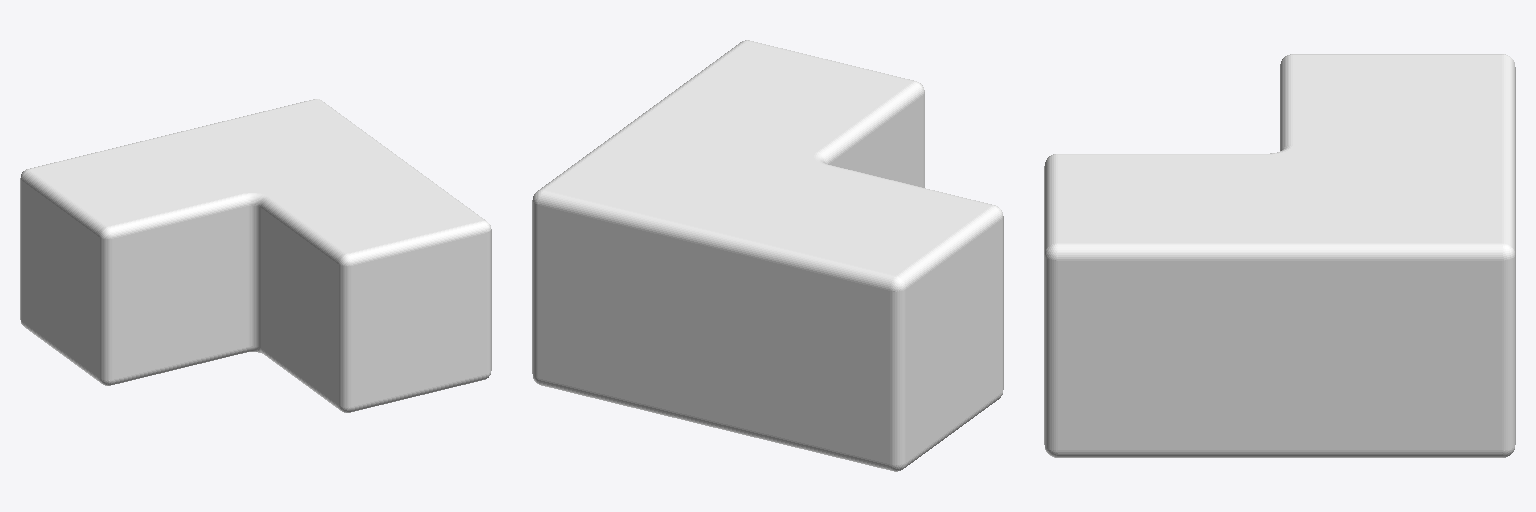
The robot description file, URDF, robot "cube3":
<robot name="cube3">
	<link name="baseLink">
    	<contact>
      		<lateral_friction value="0.5" />
      		<rolling_friction value="0.0" />
      		<contact_cfm value="0.0" />
      		<contact_erp value="1.0" />
    	</contact>
		<visual>
			<origin rpy="0.0 0.0 0.0" xyz="0.5399500533565089 -4.994846842335778e-05 -0.09000000002560846" />
			<geometry>
				<mesh filename="cubes/cube3.obj" scale="0.01 0.01 0.01" />
			</geometry>
			<material name="texture">
				<color rgba="1.0 1.0 1.0 1.0" />
			</material>
		</visual>
		<collision>
			<origin rpy="0.0 0.0 0.0" xyz="0.5399500533565089 -4.994846842335778e-05 -0.09000000002560846" />
			<geometry>
				<mesh filename="cubes/cube3_vhacd.obj" scale="0.01 0.01 0.01" />
			</geometry>
		</collision>
		<inertial>
			<origin rpy="0 0 0" xyz="0 0 0" />
			<mass value="0.5" />
			<inertia ixx="0.01" ixy="0.0" ixz="0.0" iyy="0.01" iyz="0.0" izz="0.01" />
		</inertial>
	</link>
</robot>

--- What the picture shows (computed from the rendered views, not written in the file) ---
3 views of the same robot in one strip: view 1: azimuth 30°, elevation 25°; view 2: azimuth 150°, elevation 25°; view 3: azimuth 270°, elevation 25° (orthographic).
Robot: cube3 — 1 links, 0 joints (none); root link baseLink; default pose: every joint at zero.
Links seen in each view (by area): view 1: baseLink; view 2: baseLink; view 3: baseLink.
Boxes of the visible links, box(x1,y1,x2,y2) form: baseLink: box(20, 99, 491, 412); baseLink: box(532, 40, 1003, 471); baseLink: box(1044, 54, 1515, 457).
Bounding box of the posed robot: 0.36 × 0.36 × 0.18 m (x, y, z).
Meshes: 1 distinct files referenced, 1 mesh visuals loaded (1 OBJ).